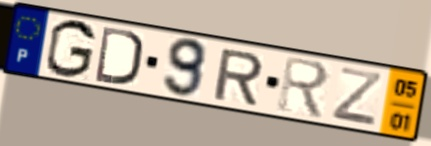9: (160, 36, 208, 100)
D: (93, 23, 144, 88)
G: (43, 17, 99, 80)
R: (275, 54, 331, 123), (210, 47, 266, 107)
Z: (329, 65, 385, 129)
